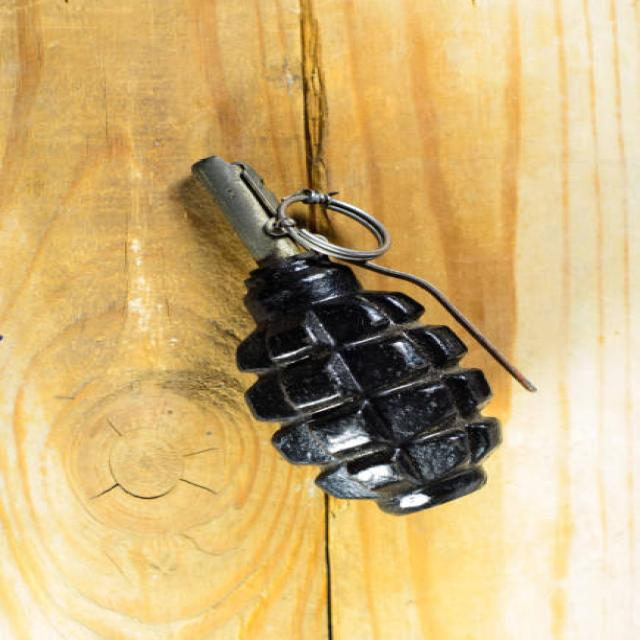grenade: (186, 148, 540, 524)
